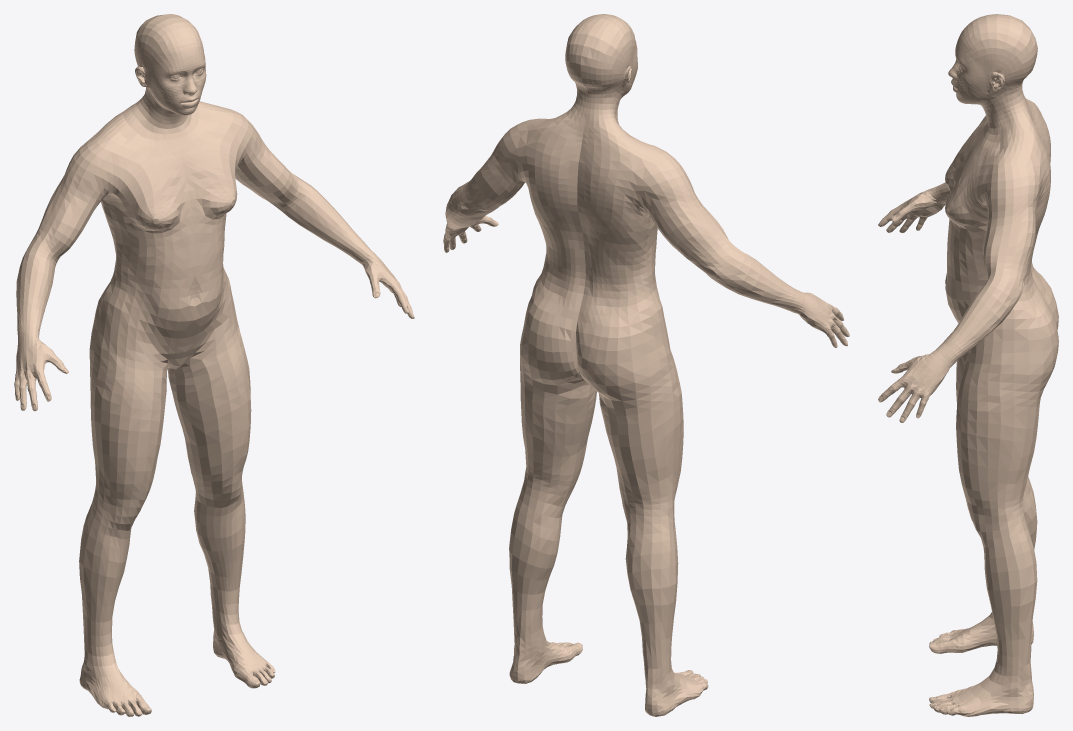
Rendered from female-young-max-strong.glb.
3 views of the same model, side by side, from view 1: azimuth 30°, elevation 25°; view 2: azimuth 150°, elevation 25°; view 3: azimuth 270°, elevation 25° (orthographic).
Visible parts, largest first — view 1: world; view 2: world; view 3: world.
Part boxes in pixels (x1,y1,x2,y2): world: (14, 14, 414, 716); world: (443, 14, 849, 716); world: (878, 14, 1058, 716).
Size of the model in its own units: 1.09 by 1.76 by 0.4349.
